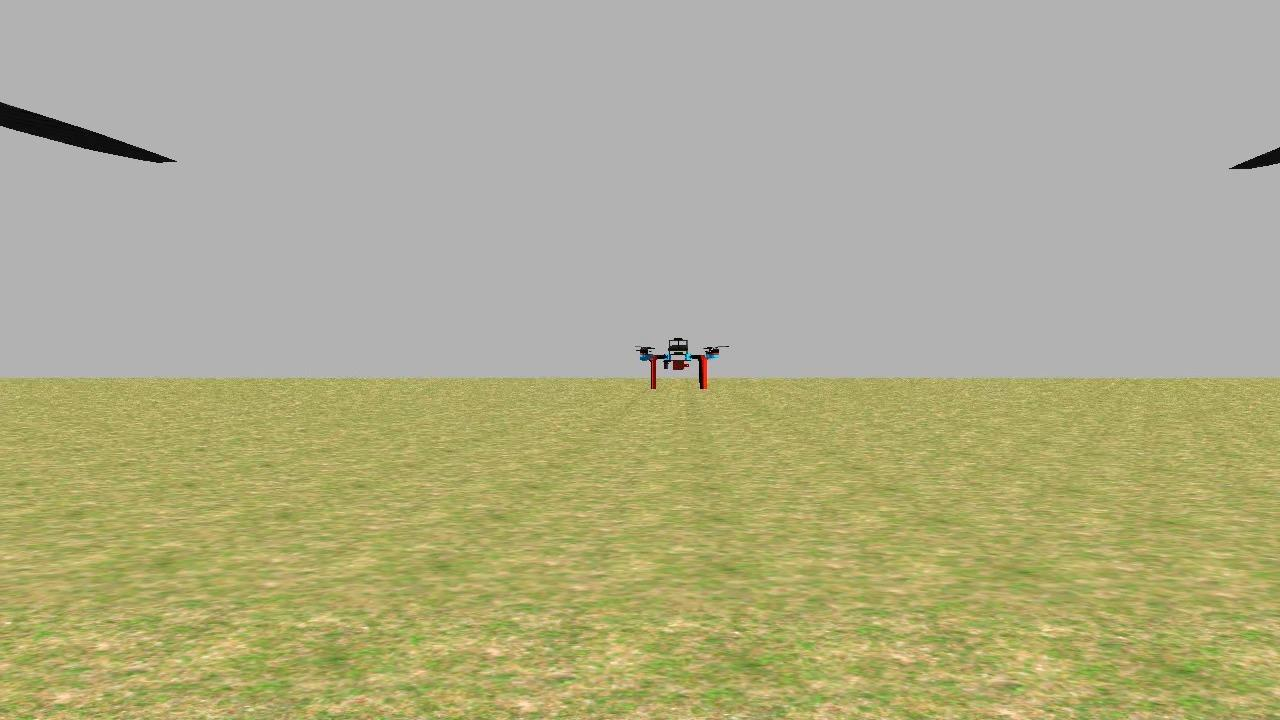UAV: (619, 332, 740, 394)
